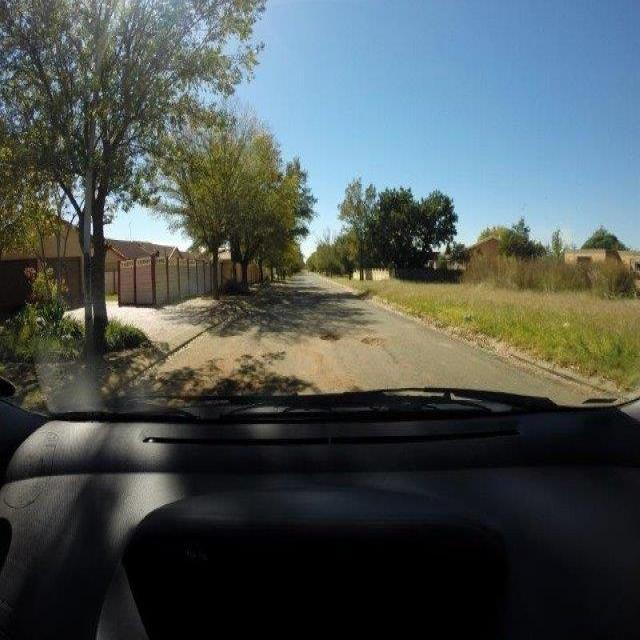lubang: (318, 329, 346, 346), (357, 333, 386, 348)
